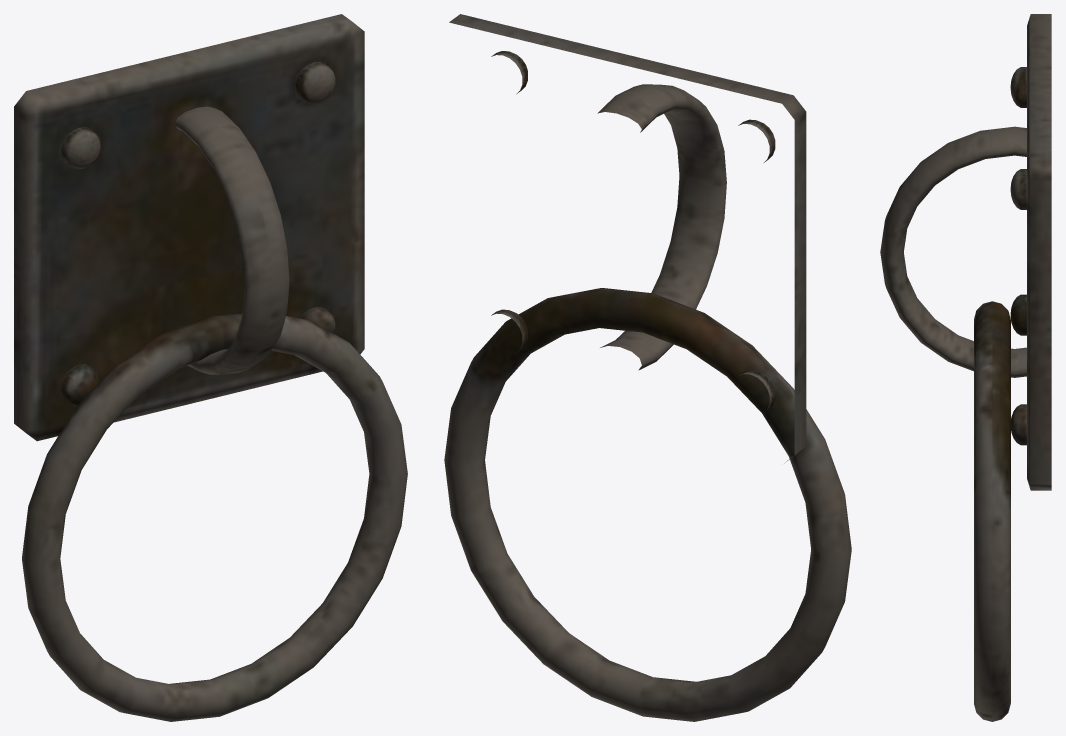
Rendered from SM_Decor_Ring.glb.
3 views of the same model, side by side, from view 1: azimuth 30°, elevation 25°; view 2: azimuth 150°, elevation 25°; view 3: azimuth 270°, elevation 25° (orthographic). The views are drawn at different scales.
Parts seen in each view (by area): view 1: SM_Decor_Ring; view 2: SM_Decor_Ring; view 3: SM_Decor_Ring.
Part boxes in pixels (bbox=[...]): SM_Decor_Ring: bbox=[14, 14, 407, 721]; SM_Decor_Ring: bbox=[444, 14, 851, 721]; SM_Decor_Ring: bbox=[880, 14, 1051, 721].
Size of the model in its own units: 0.2765 by 0.4443 by 0.1123.
Materials: 1 (1 with a texture image).
